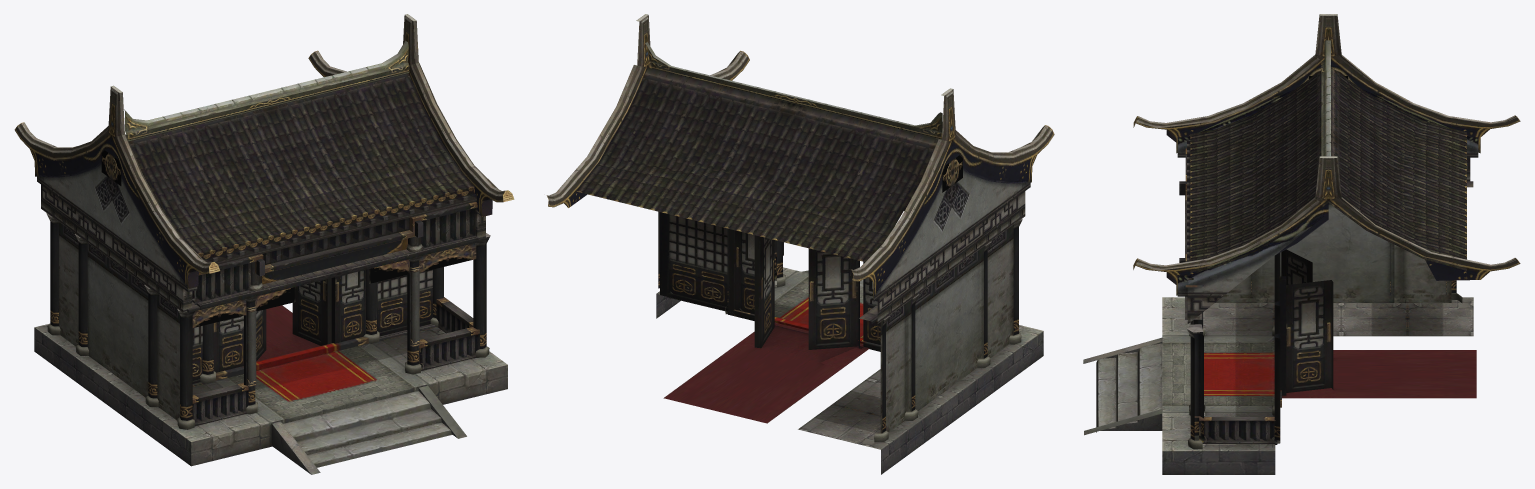
Rendered from cj_luoyang_shangpu01_55_24_0648out.fbx.
3 views of the same model, side by side, from view 1: azimuth 30°, elevation 25°; view 2: azimuth 150°, elevation 25°; view 3: azimuth 270°, elevation 25° (orthographic). The views are drawn at different scales.
Visible parts, largest first — view 1: cj_luoyang_shangpu01; view 2: cj_luoyang_shangpu01; view 3: cj_luoyang_shangpu01.
Part boxes in pixels (<box>): cj_luoyang_shangpu01: <box>14,14,514,474</box>; cj_luoyang_shangpu01: <box>546,14,1054,474</box>; cj_luoyang_shangpu01: <box>1083,14,1520,474</box>.
Bounding box in the file's own units: 12.21 × 11.55 × 14.71.
